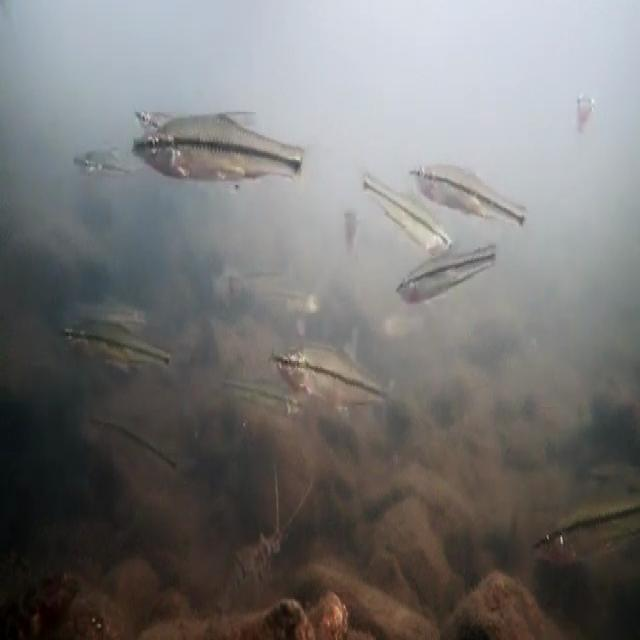Cakil Baligi: (131, 102, 324, 189), (267, 331, 390, 428), (411, 144, 532, 232), (57, 318, 176, 378)
